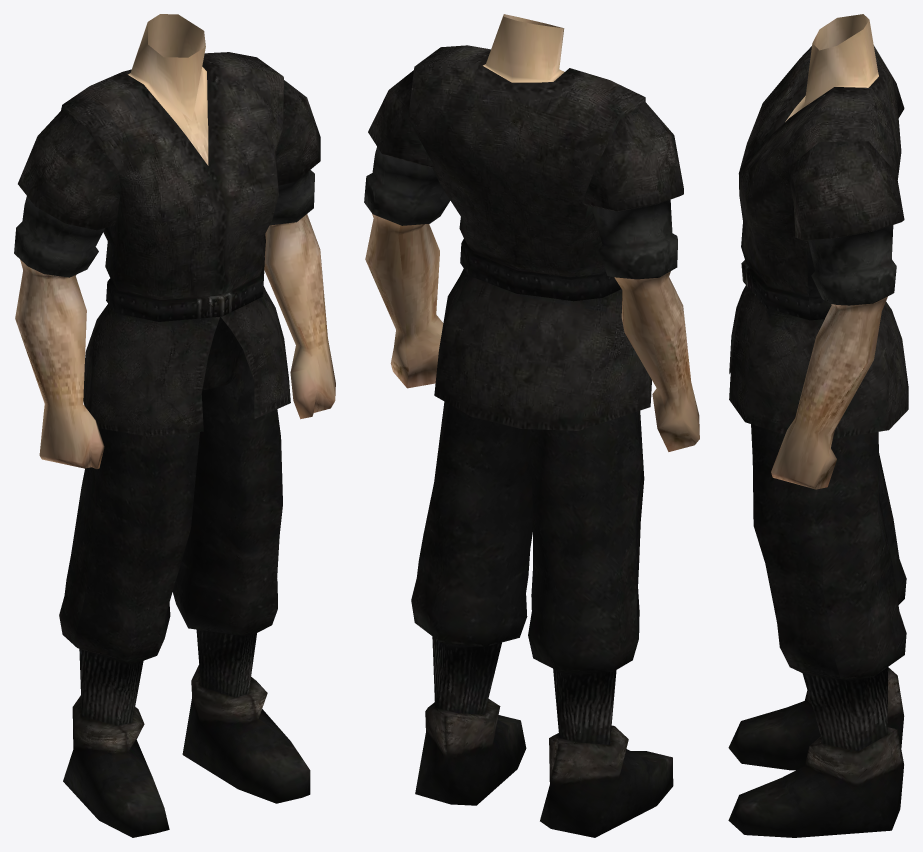
Rendered from KM_SAILOR_04.glb.
The picture shows the model from 3 angles, left to right: view 1: azimuth 30°, elevation 25°; view 2: azimuth 150°, elevation 25°; view 3: azimuth 270°, elevation 25°; orthographic projection. The views are drawn at different scales.
Visible parts, largest first — view 1: KM_SAILOR_04; view 2: KM_SAILOR_04; view 3: KM_SAILOR_04.
Part boxes in pixels (<box>): KM_SAILOR_04: <box>14,14,335,837</box>; KM_SAILOR_04: <box>364,14,699,837</box>; KM_SAILOR_04: <box>728,14,908,837</box>.
Size of the model in its own units: 0.6877 by 1.68 by 0.3553.
2 materials, 2 textured.
